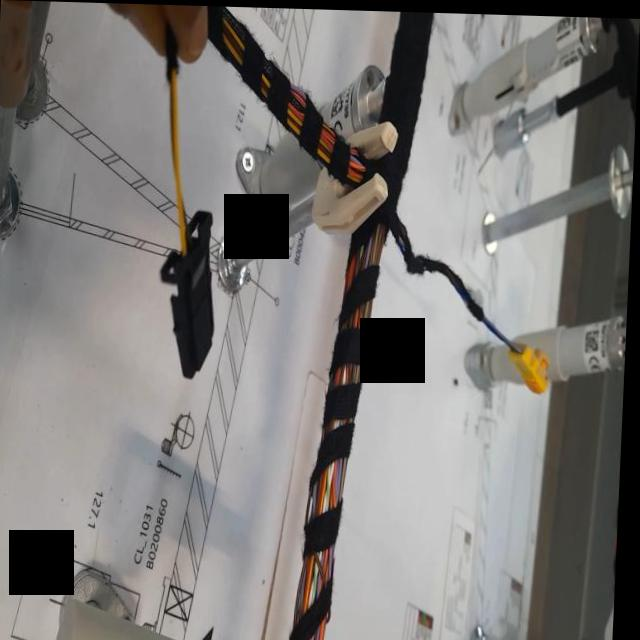connector: (160, 209, 215, 379)
